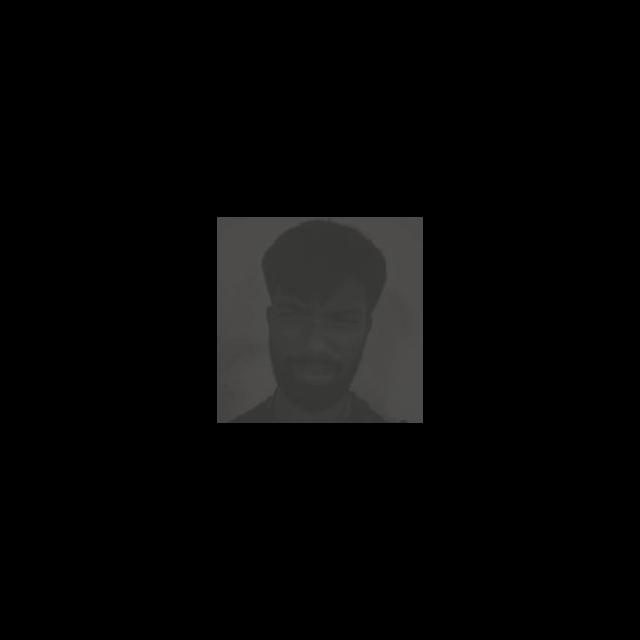Disgust: (238, 253, 389, 411)
